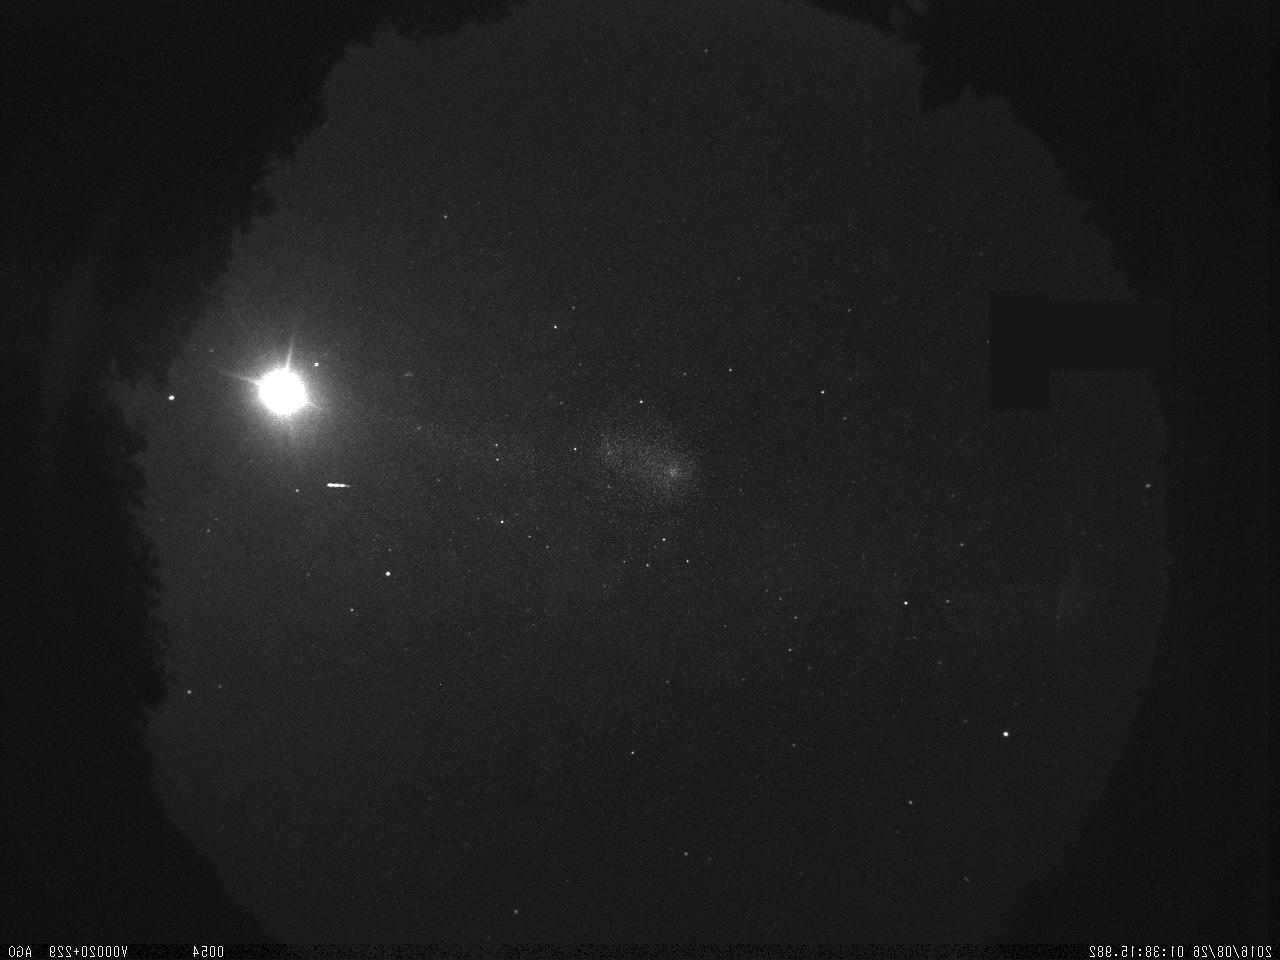meteor: (316, 472, 357, 498)
